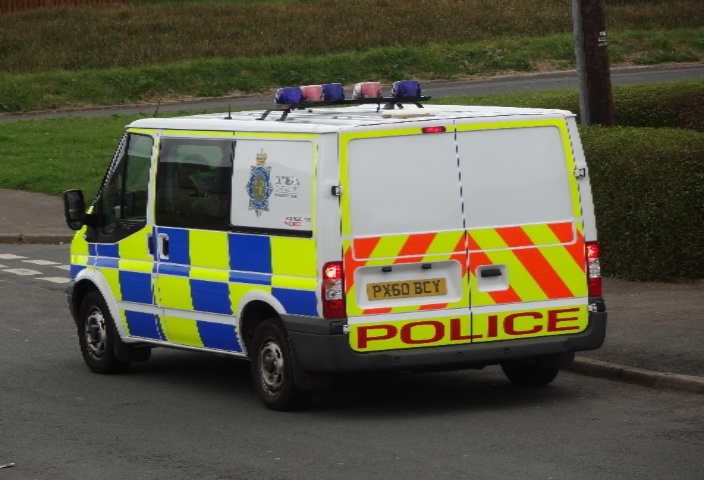van: (24, 73, 603, 405)
